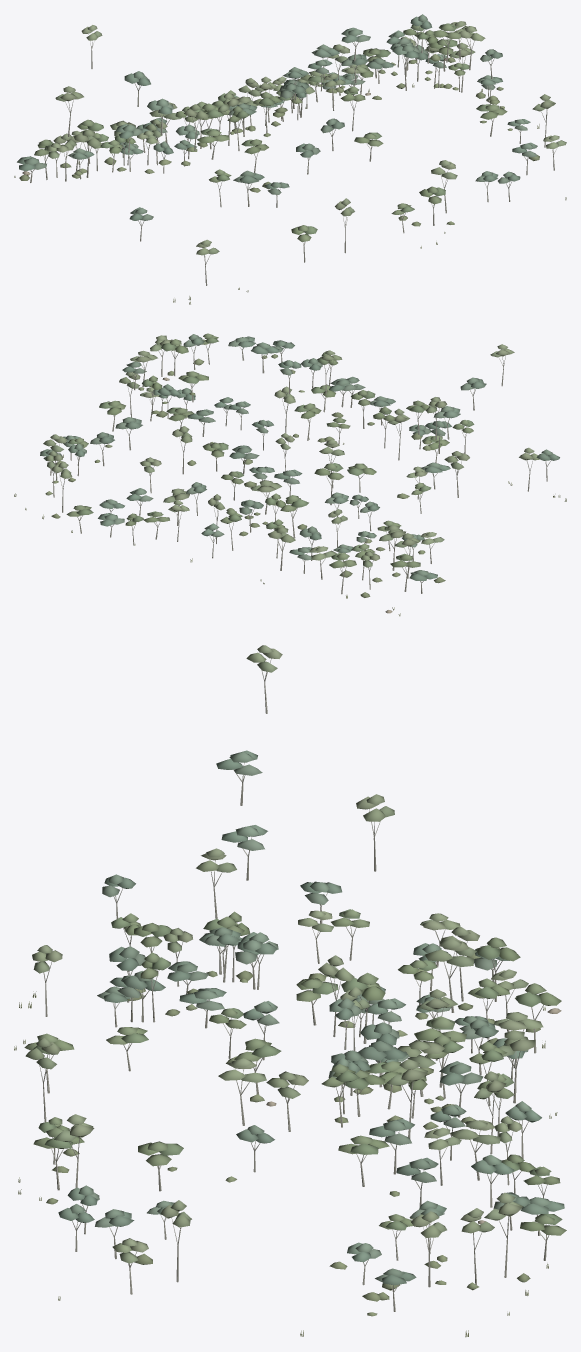
3 views of the same model, one above another, from view 1: azimuth 30°, elevation 25°; view 2: azimuth 150°, elevation 25°; view 3: azimuth 270°, elevation 25° (orthographic). The views are drawn at different scales.
Visible parts, largest first — view 1: Stage2 Vegetation Sector 07; view 2: Stage2 Vegetation Sector 07; view 3: Stage2 Vegetation Sector 07.
Boxes of the visible parts, left/top/right/bottom form: Stage2 Vegetation Sector 07: left=14, top=14, right=566, bottom=304; Stage2 Vegetation Sector 07: left=14, top=333, right=566, bottom=616; Stage2 Vegetation Sector 07: left=14, top=645, right=566, bottom=1337.
Bounding box in the file's own units: 152 × 69.93 × 100.
